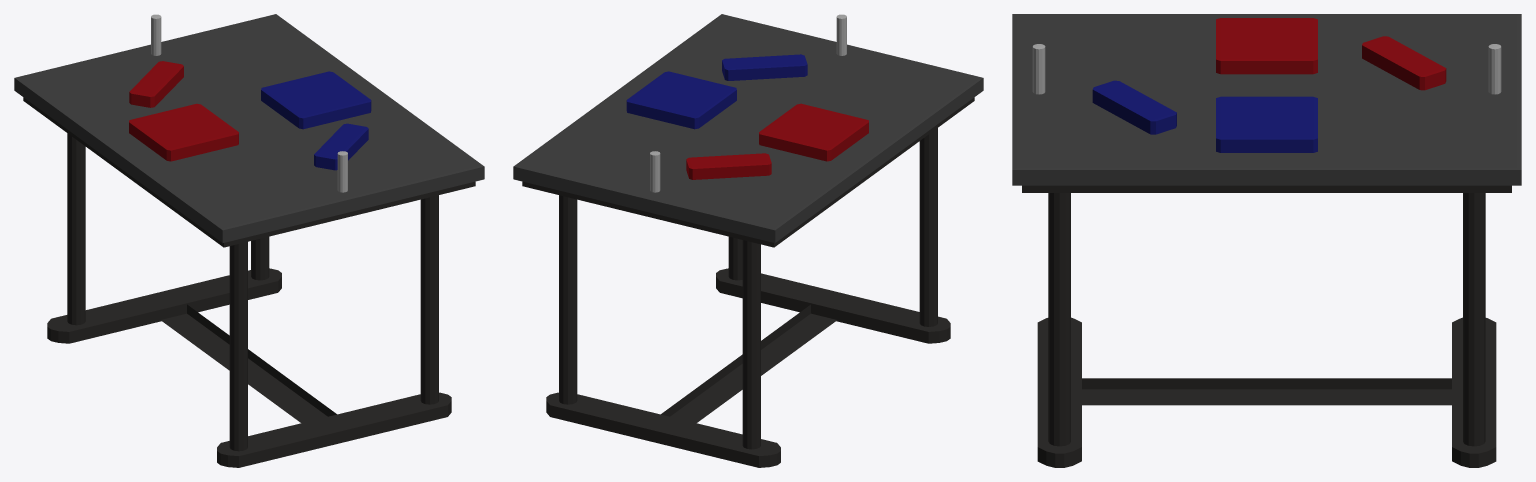
File: MesaArmwrestling.fbx
The picture shows the model from 3 angles, left to right: view 1: azimuth 30°, elevation 25°; view 2: azimuth 150°, elevation 25°; view 3: azimuth 270°, elevation 25°; orthographic projection. The views are drawn at different scales.
Parts seen in each view (by area): view 1: Cube; view 2: Cube; view 3: Cube.
Boxes of the visible parts, x1,y1,x2,y2 form: Cube: (14,14,484,467); Cube: (513,14,983,467); Cube: (1012,14,1521,467).
Size of the model in its own units: 103 by 109 by 142.
